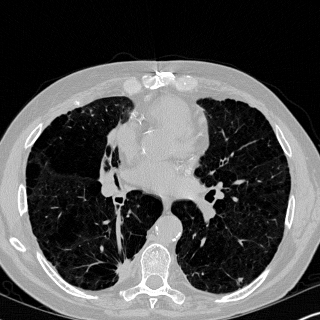nodule: (238, 278, 242, 282)
